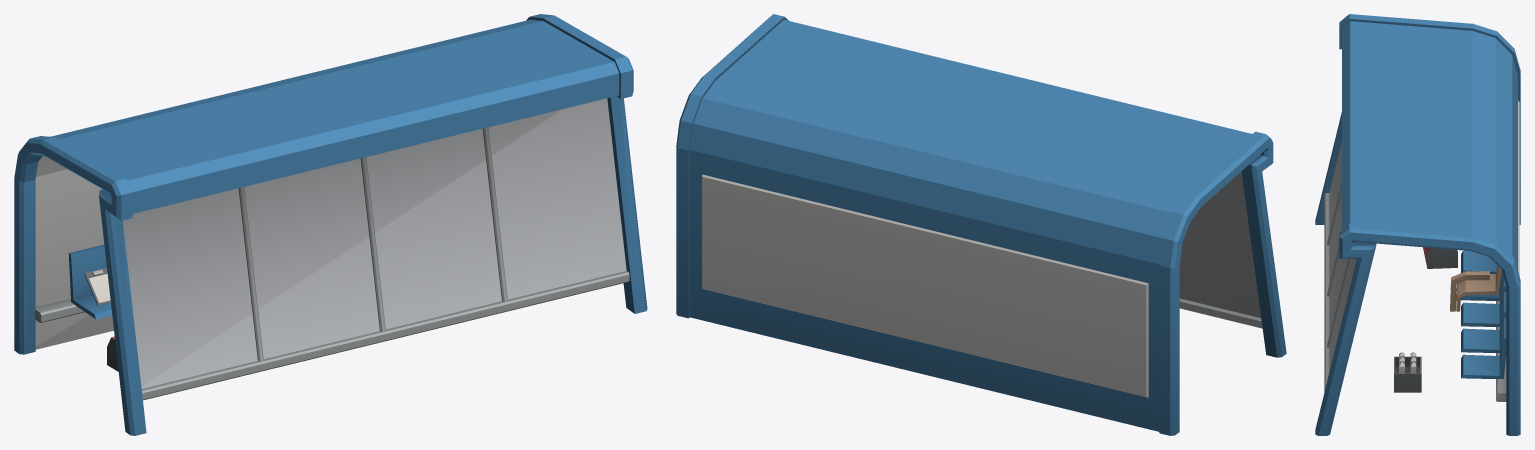
Rendered from dugout.glb.
3 renders of one model, left to right at view 1: azimuth 30°, elevation 25°; view 2: azimuth 150°, elevation 25°; view 3: azimuth 270°, elevation 25°, orthographic. The views are drawn at different scales.
Parts seen in each view (by area): view 1: dugout; view 2: dugout; view 3: dugout.
Boxes of the visible parts, x1,y1,x2,y2 form: dugout: [14, 14, 647, 435]; dugout: [676, 14, 1286, 435]; dugout: [1315, 14, 1520, 435].
Size of the model in its own units: 6 by 2.66 by 2.4.
